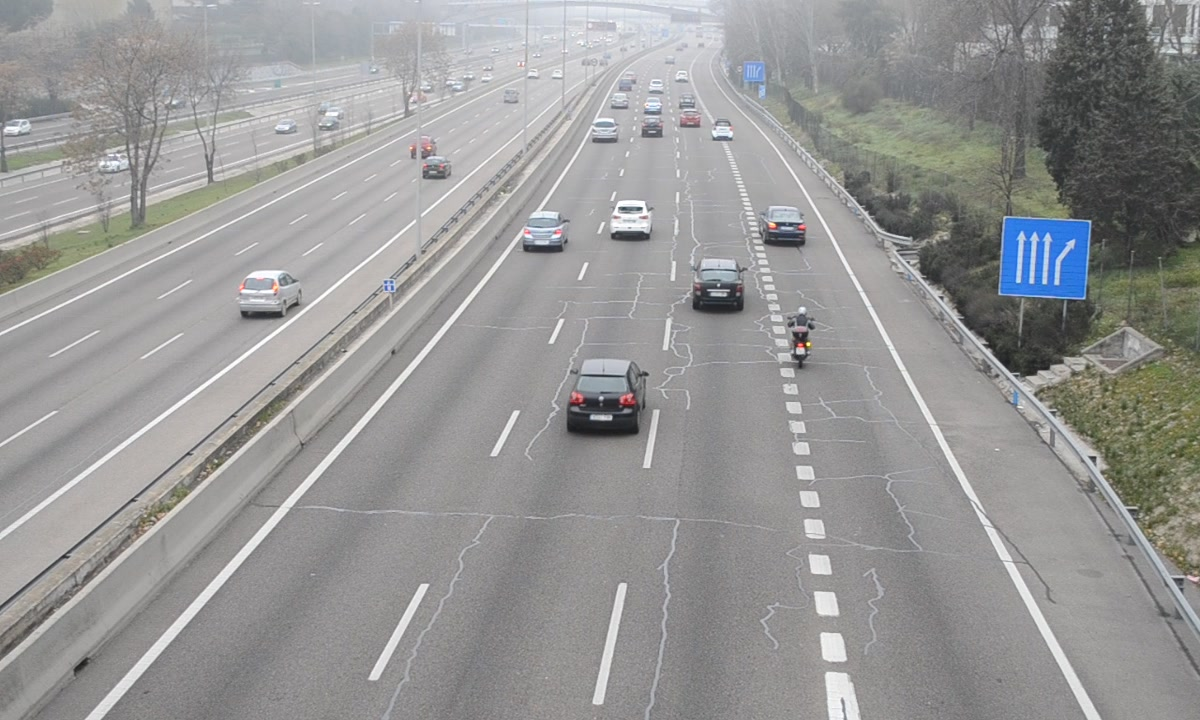car: (568, 359, 645, 429), (693, 260, 747, 311), (759, 205, 806, 245), (523, 211, 569, 250), (610, 199, 654, 239), (591, 118, 621, 144), (713, 118, 734, 142)
motorcycle: (786, 304, 817, 370)
